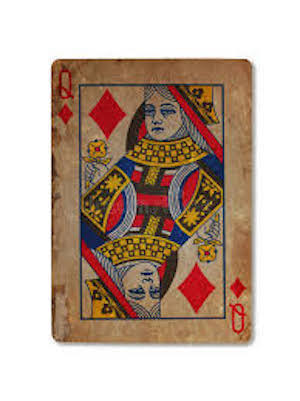QueenOfDiamonds: (39, 50, 264, 354)
